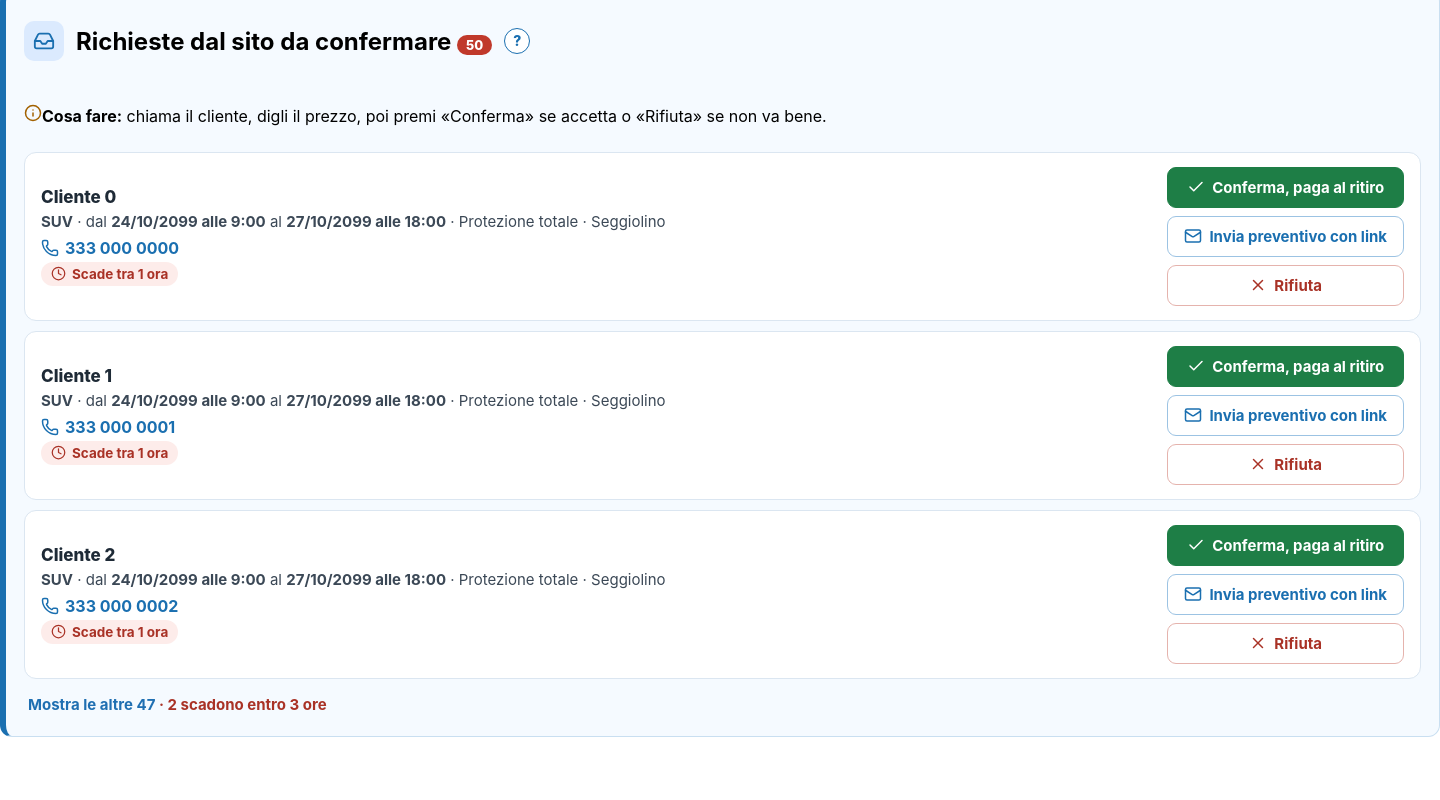
Test case: tante richieste › un clic su una riga compatta la apre in grande; «Mostra meno» richiude
Click the button "Mostra le altre 47 · 2 scadono entro 3 ore": (177, 704) [24,689,331,720]
(page scrolled)
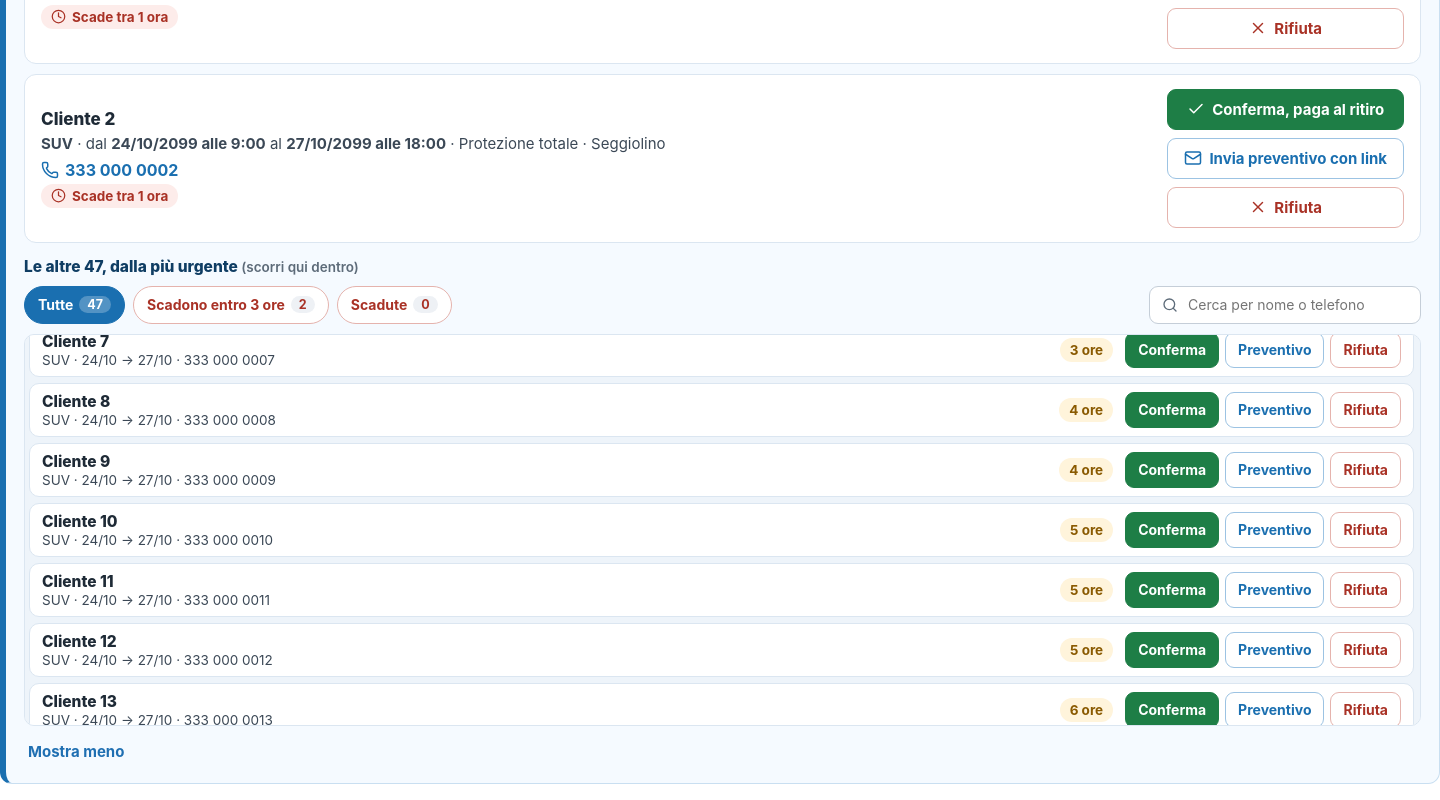
Click the button with aria-label "Apri la richiesta di Cliente 10": (80, 521) [42,512,1048,548]
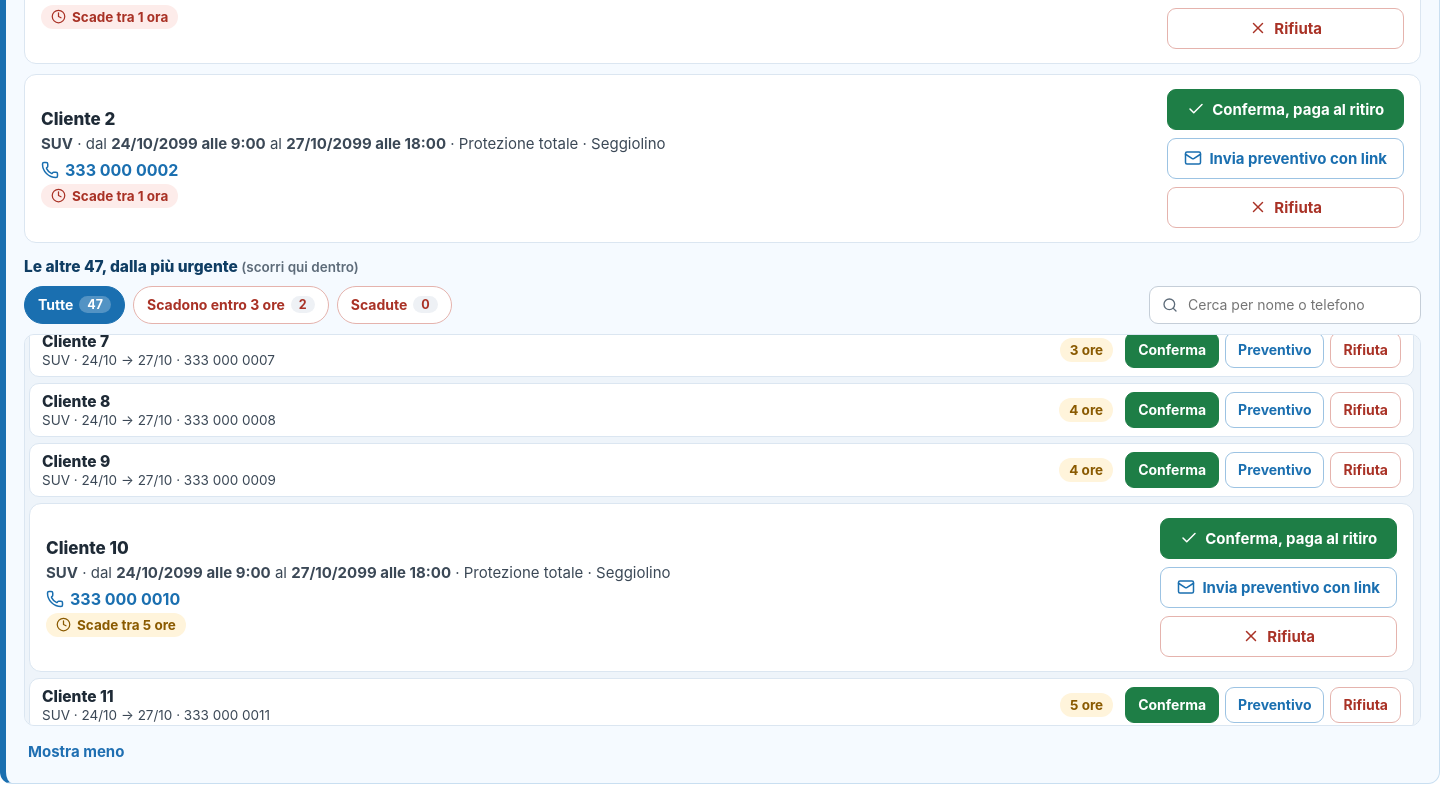
Expected: the number of buttons "Conferma, paga al ritiro" is 4
Click the button "Mostra meno": (76, 751) [24,736,128,767]
(page scrolled)
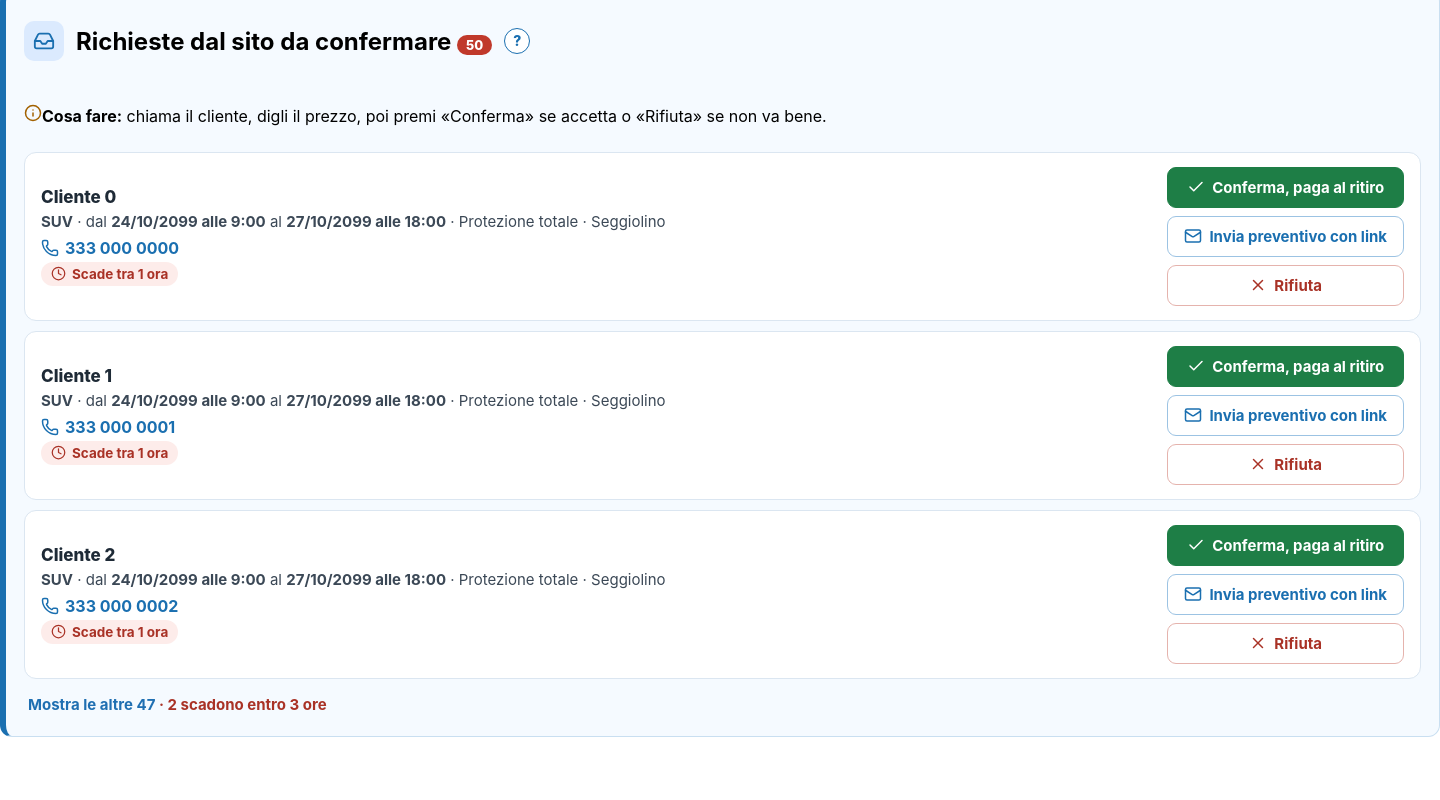
Expected: the number of buttons "Conferma, paga al ritiro" is 3, [1167,167,1404,208]; [1167,346,1404,387]; [1167,525,1404,566]
